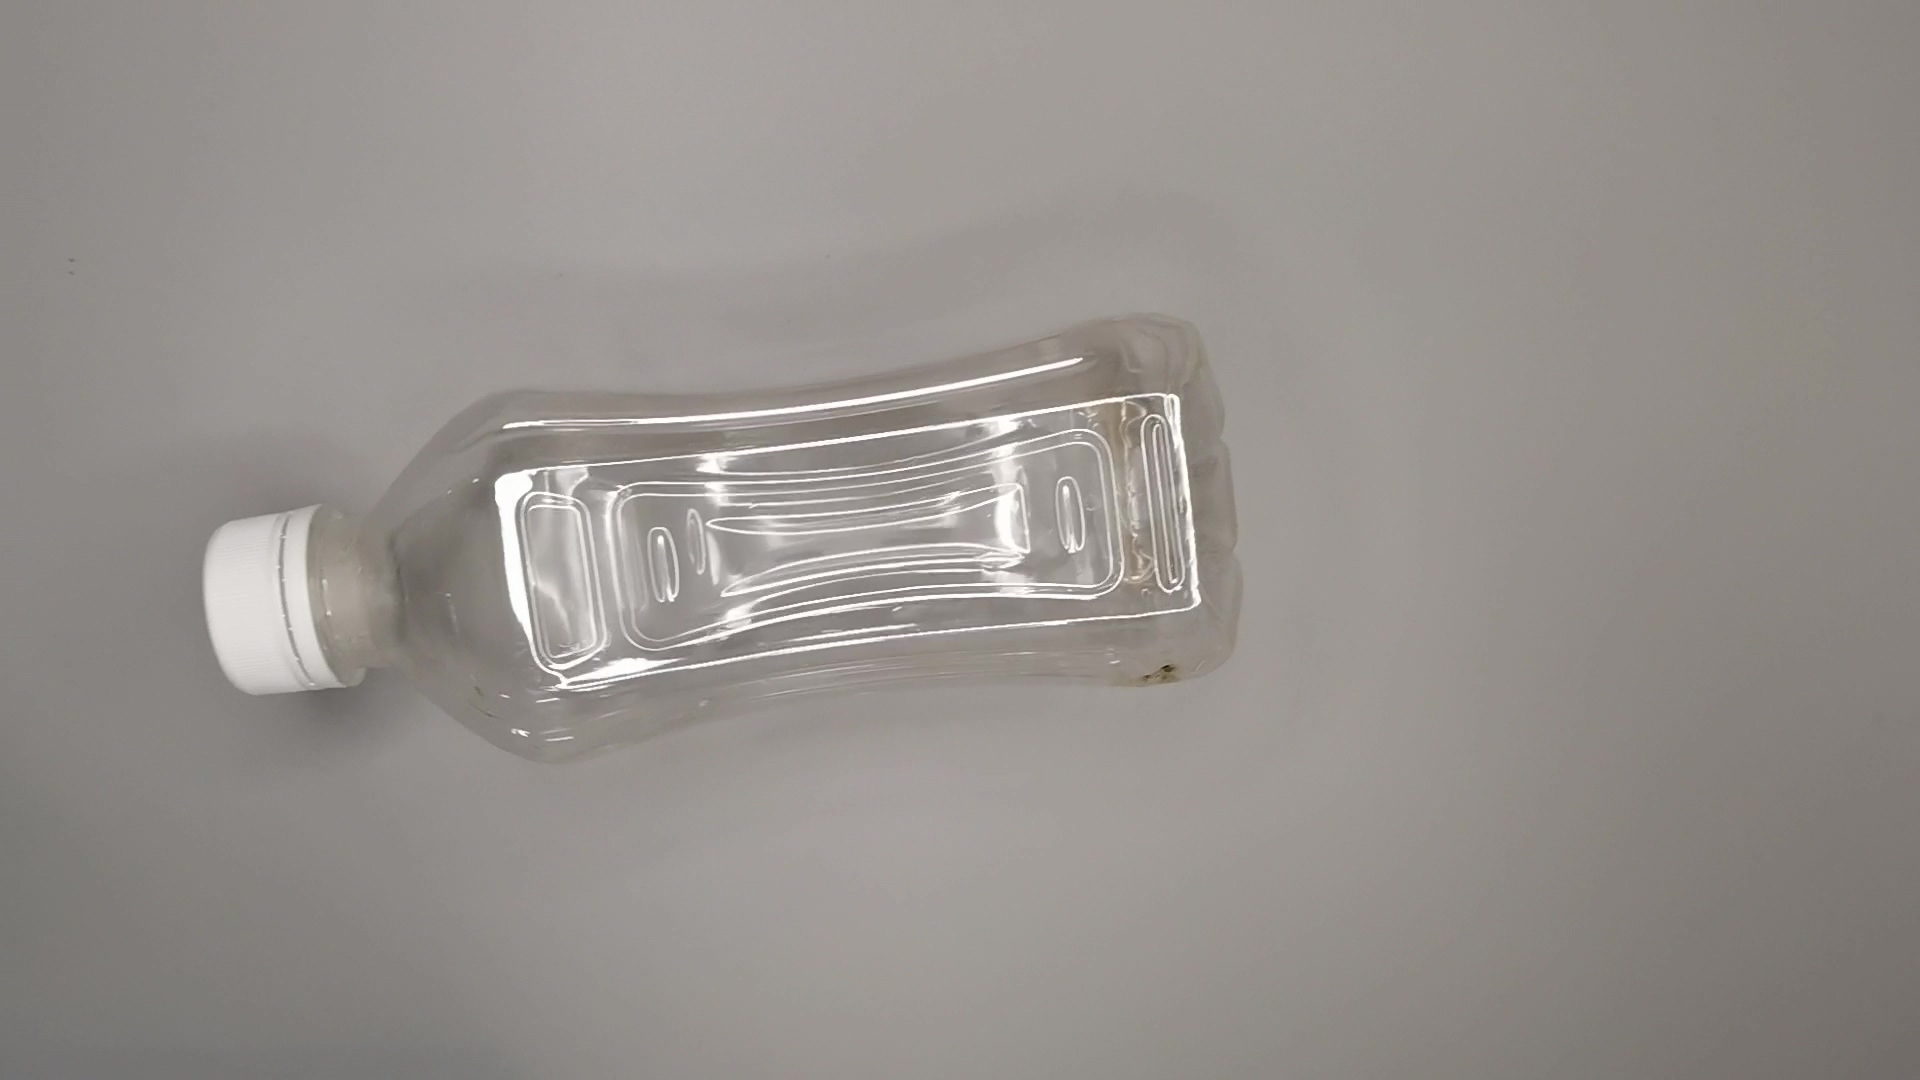bottle: (191, 311, 1238, 769)
